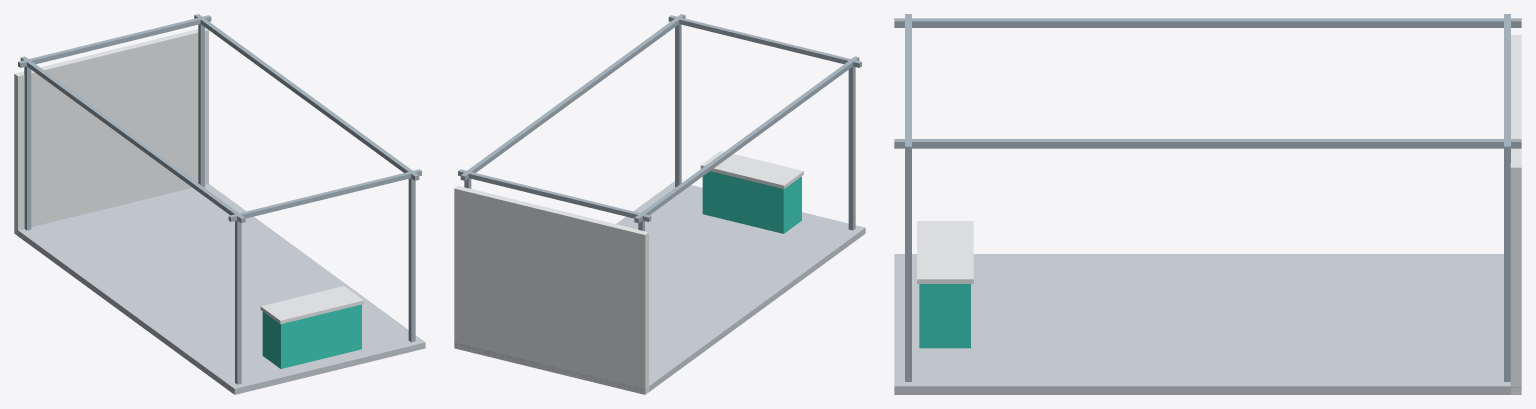
The picture shows the model from 3 angles, left to right: view 1: azimuth 30°, elevation 25°; view 2: azimuth 150°, elevation 25°; view 3: azimuth 270°, elevation 25°; orthographic projection. The views are drawn at different scales.
Visible parts, largest first — view 1: Exhibition Booth Concept; view 2: Exhibition Booth Concept; view 3: Exhibition Booth Concept.
Part boxes in pixels (left/top/right/bottom): Exhibition Booth Concept: left=14, top=14, right=425, bottom=394; Exhibition Booth Concept: left=454, top=14, right=865, bottom=394; Exhibition Booth Concept: left=894, top=14, right=1521, bottom=394.
Size of the model in its own units: 4 by 3.49 by 8.
